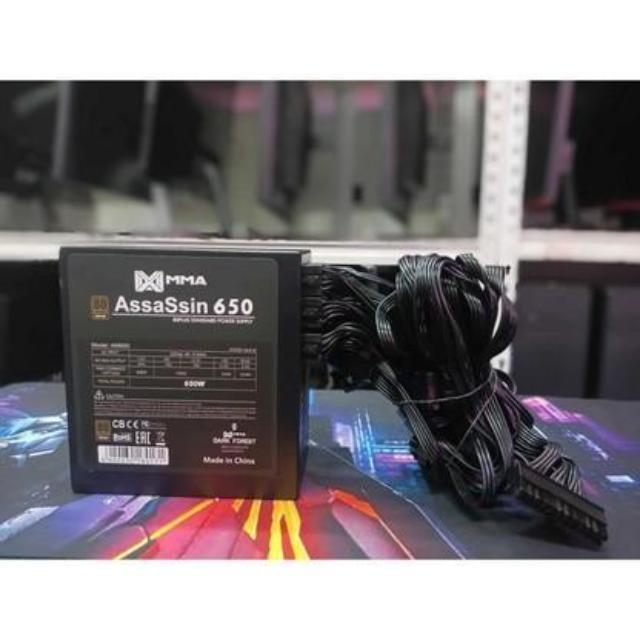PSU: (52, 231, 324, 503)
